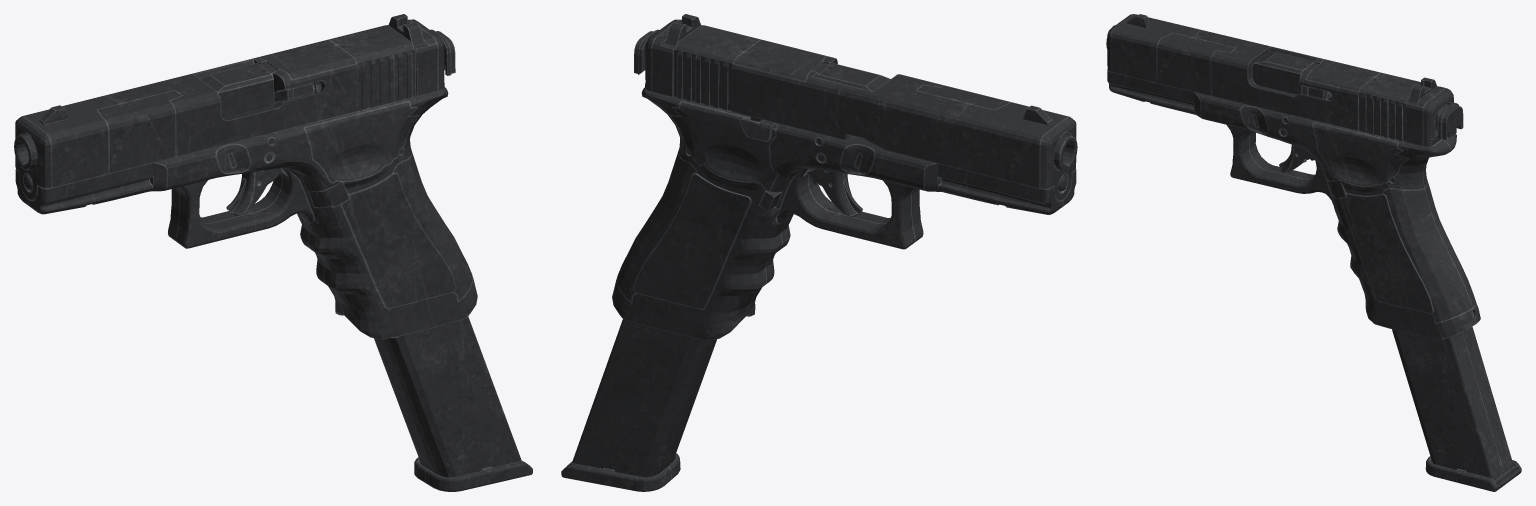
The model's file is glock17.glb.
3 renders of one model, left to right at view 1: azimuth 30°, elevation 25°; view 2: azimuth 150°, elevation 25°; view 3: azimuth 330°, elevation 25°, orthographic. The views are drawn at different scales.
Visible parts, largest first — view 1: Mesh.001_Material_20_10; view 2: Mesh.001_Material_20_10; view 3: Mesh.001_Material_20_10, Mesh.001_Material_21_6.
Part boxes in pixels (x1,y1,x2,y2): Mesh.001_Material_20_10: [14, 14, 532, 491]; Mesh.001_Material_20_10: [561, 14, 1077, 491]; Mesh.001_Material_20_10: [1106, 14, 1521, 491]; Mesh.001_Material_21_6: [1435, 102, 1463, 140].
Bounding box in the file's own units: 0.2193 × 0.1994 × 0.0332.
2 materials, 2 textured.
